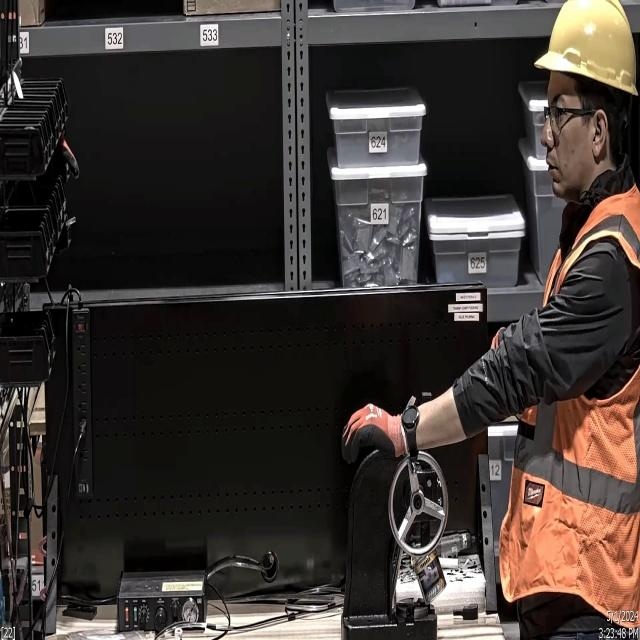construction-gloves: (339, 398, 408, 464)
